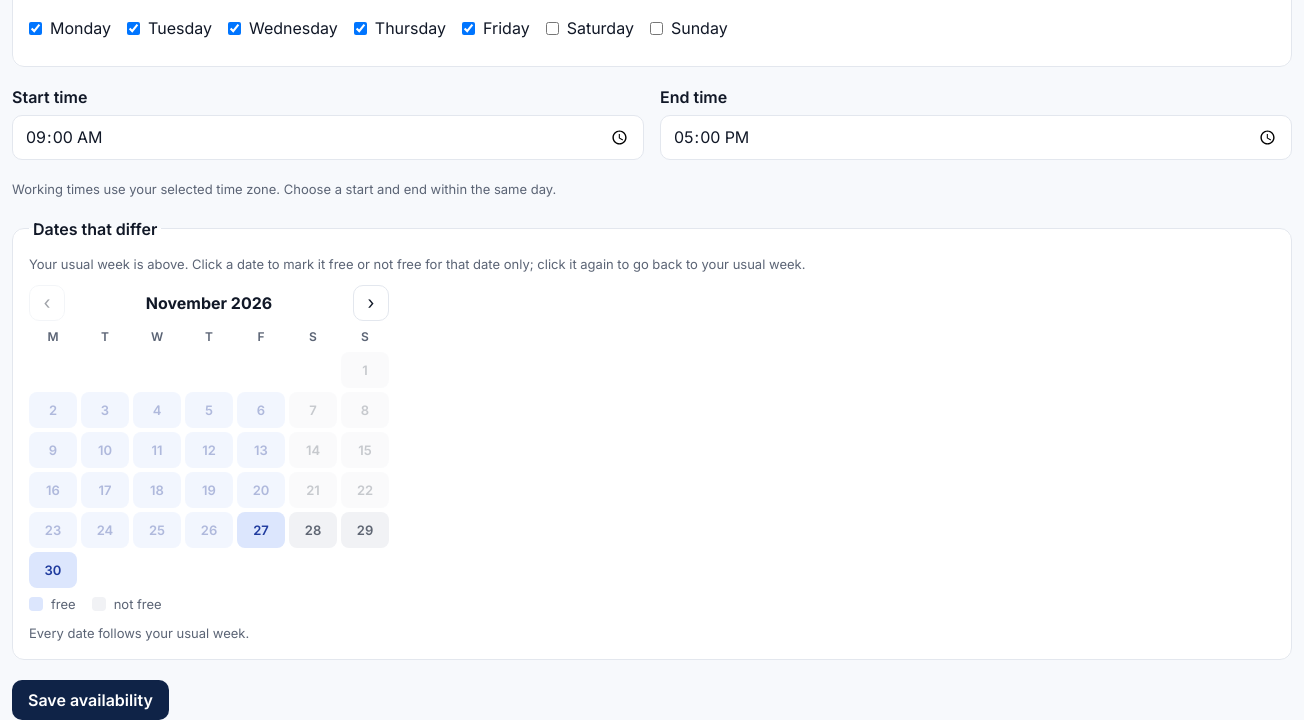
Test: AvailabilityForm › asks for one role's pattern and saves only that one
(page scrolled)
Click the button "Save availability". click: (90, 700)
box: [12, 680, 169, 719]
(page scrolled)
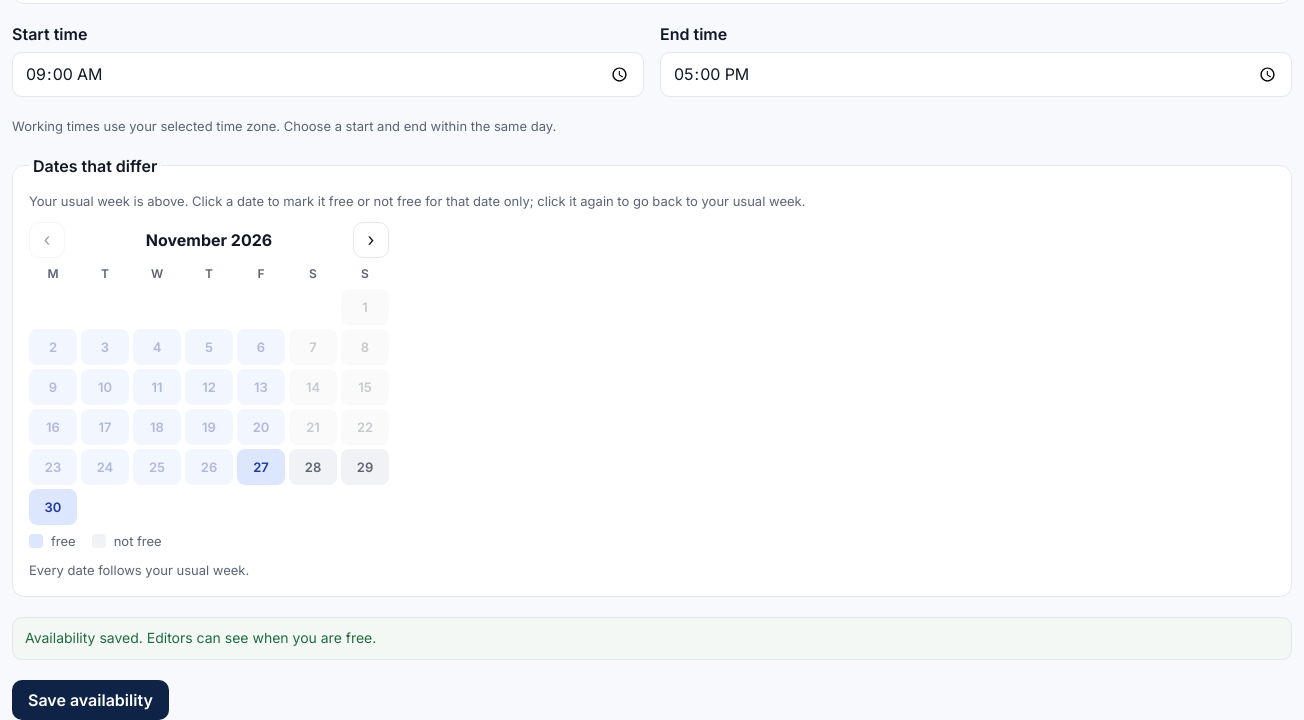
Now the text "Availability saved. Editors can see when you are free." is shown, box [12, 617, 1292, 660]
